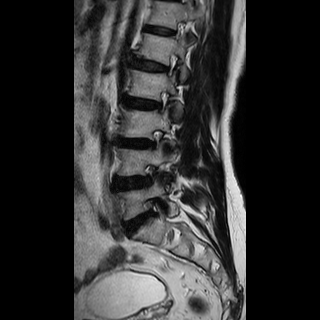RFS0: (146, 124, 167, 157), (160, 49, 181, 82), (151, 86, 171, 119)
RFS3: (141, 161, 167, 191)
